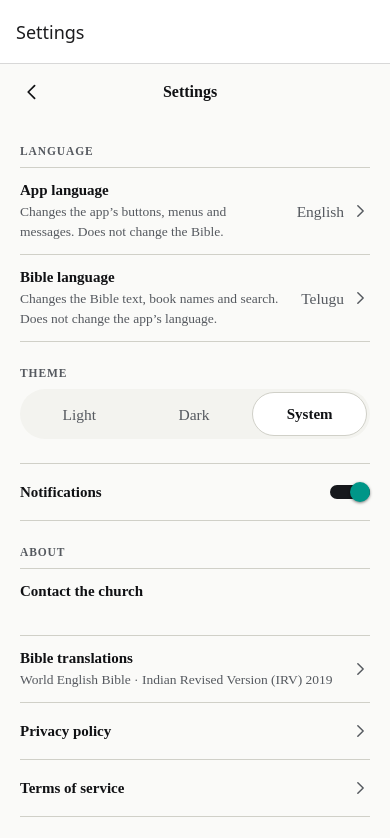
Test: SettingsScreen › the choice sheets › repeats what the setting does not change, under its title
Click the button with test id "settings-app-language".
click(195, 211)  # box left=20, top=168, right=370, bottom=254
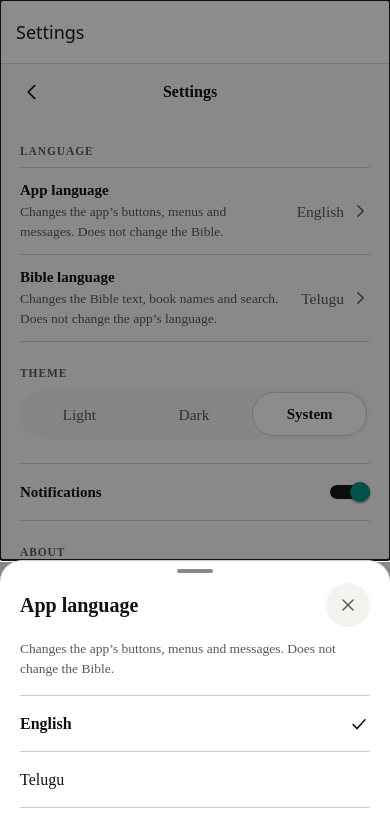
Now the text "Changes the app’s buttons, menus and messages. Does not change the Bible." is shown, box left=20, top=639, right=370, bottom=679
